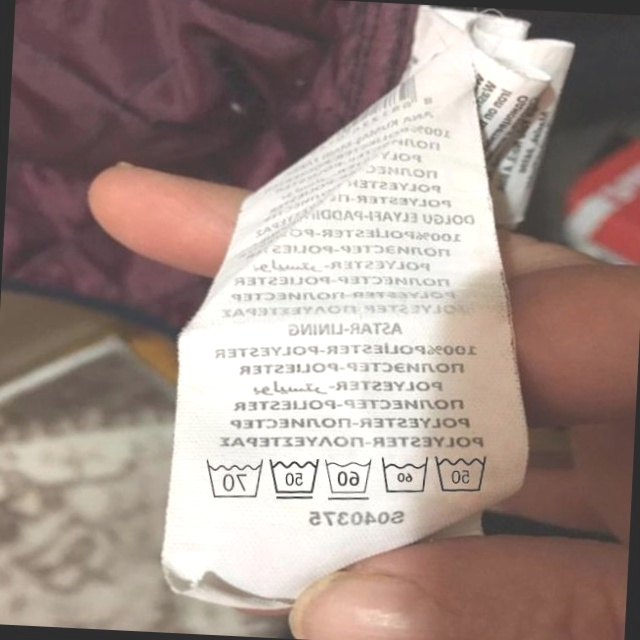50C: (429, 446, 494, 499), (264, 452, 322, 504)
60C: (319, 452, 374, 503), (375, 451, 431, 500)
70C: (198, 454, 264, 502)
